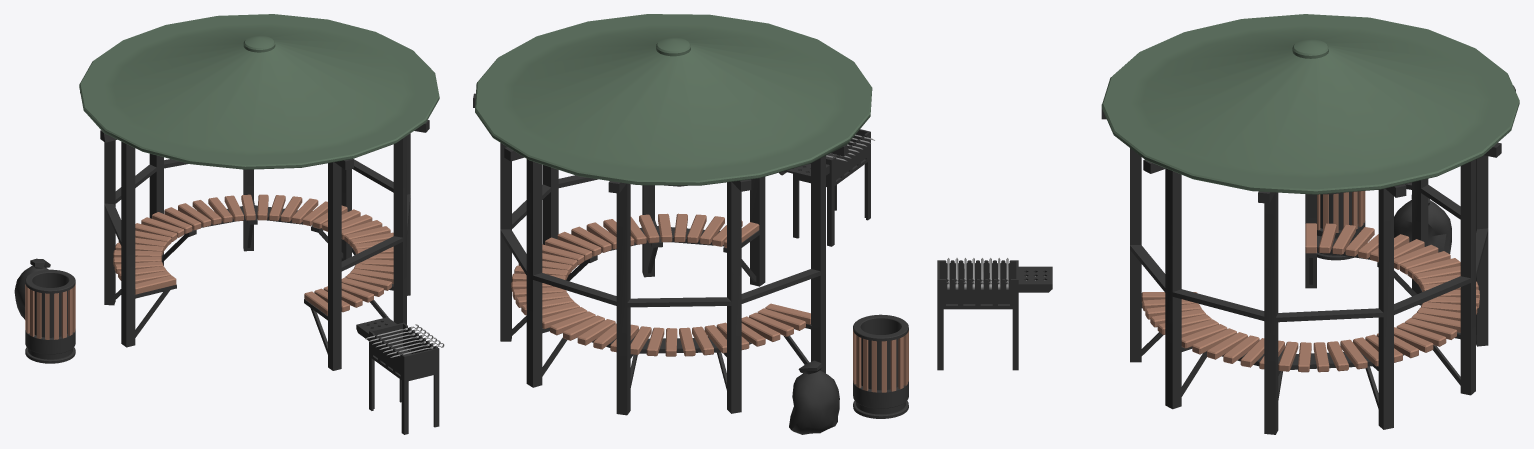
Rendered from gazebo_with_barbecue_and_trash_can.glb.
3 renders of one model, left to right at view 1: azimuth 30°, elevation 25°; view 2: azimuth 150°, elevation 25°; view 3: azimuth 270°, elevation 25°, orthographic. The views are drawn at different scales.
Visible parts, largest first — view 1: Gazebo with barbecue and trash can; view 2: Gazebo with barbecue and trash can; view 3: Gazebo with barbecue and trash can.
Part boxes in pixels (x1=…): Gazebo with barbecue and trash can: x1=14, y1=14, x2=444, y2=434; Gazebo with barbecue and trash can: x1=473, y1=14, x2=908, y2=434; Gazebo with barbecue and trash can: x1=937, y1=14, x2=1519, y2=434.
Bounding box in the file's own units: 4.31 × 3.03 × 5.
